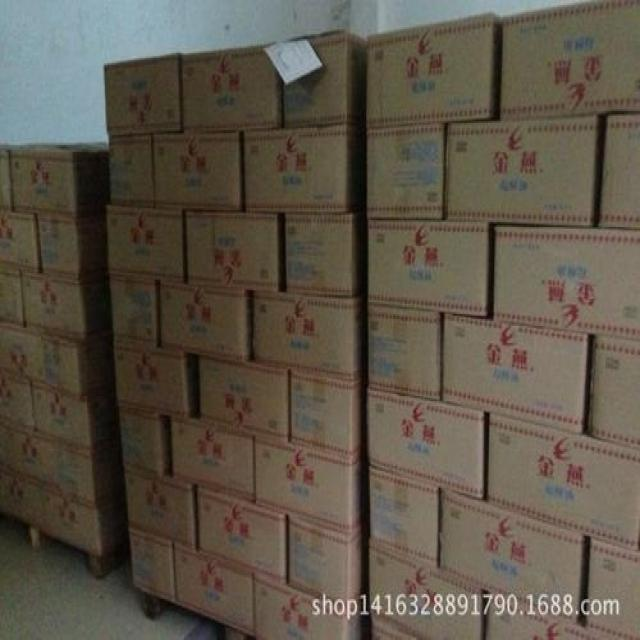box: (488, 411, 640, 551), (439, 488, 584, 620), (444, 312, 588, 433), (445, 114, 598, 225), (494, 227, 640, 338), (366, 12, 503, 128), (367, 389, 485, 500), (367, 218, 490, 316), (371, 543, 483, 640), (244, 125, 366, 213), (256, 435, 367, 531), (252, 290, 366, 379), (182, 43, 283, 131), (197, 488, 285, 584), (284, 29, 367, 128), (186, 210, 285, 292), (160, 280, 252, 362), (255, 575, 371, 640), (366, 123, 445, 218), (200, 355, 288, 440), (288, 514, 369, 606), (485, 591, 632, 640), (175, 543, 253, 635), (10, 143, 109, 215), (172, 415, 253, 502), (289, 370, 367, 459), (369, 466, 439, 565), (154, 131, 241, 210), (369, 304, 440, 399), (285, 212, 366, 295), (104, 53, 182, 137), (23, 268, 111, 341), (114, 340, 198, 416), (38, 486, 128, 556), (106, 203, 184, 282), (32, 384, 120, 454), (586, 333, 640, 447), (124, 468, 195, 548), (585, 538, 640, 640), (38, 439, 124, 503), (40, 335, 116, 403), (598, 113, 640, 229), (36, 213, 106, 276), (119, 406, 170, 476), (109, 273, 159, 341), (109, 135, 154, 205), (129, 532, 174, 601), (0, 423, 44, 483), (0, 208, 40, 270), (0, 468, 42, 527), (0, 324, 38, 386), (0, 374, 33, 433), (0, 265, 26, 329), (1, 145, 18, 208), (372, 626, 411, 640)
